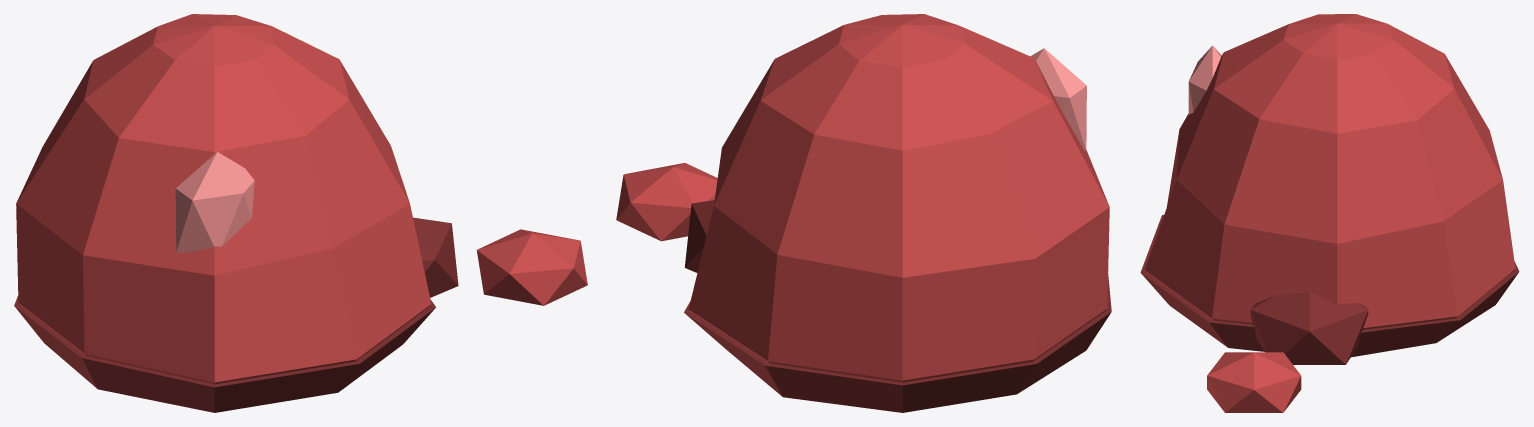
Rendered from gel.glb.
3 views of the same model, side by side, from view 1: azimuth 30°, elevation 25°; view 2: azimuth 150°, elevation 25°; view 3: azimuth 270°, elevation 25° (orthographic). The views are drawn at different scales.
Parts seen in each view (by area): view 1: gel; view 2: gel; view 3: gel.
Part boxes in pixels (x1,y1,x2,y2): gel: (14,14,587,412); gel: (616,14,1111,412); gel: (1140,14,1519,412).
Bounding box in the file's own units: 0.3603 × 0.22 × 0.2738.
